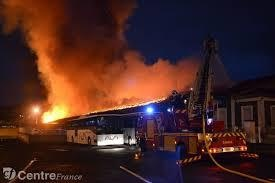fire: (38, 99, 71, 124)
